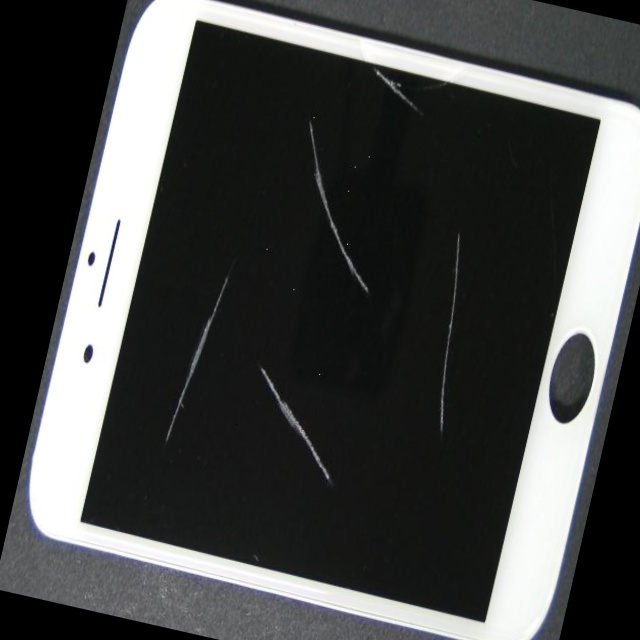scratch: (33, 109, 454, 640), (112, 0, 473, 336)
